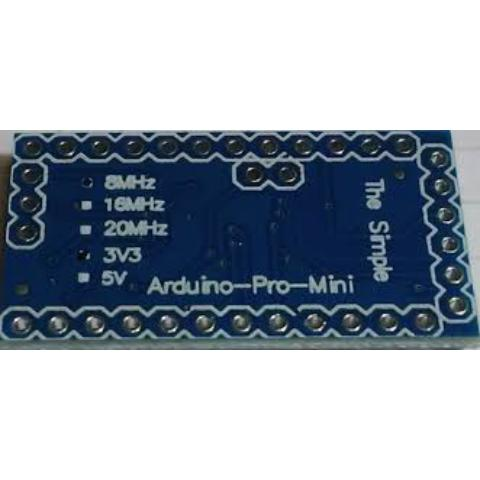Arduino-Pro-Mini: (0, 132, 480, 350)
